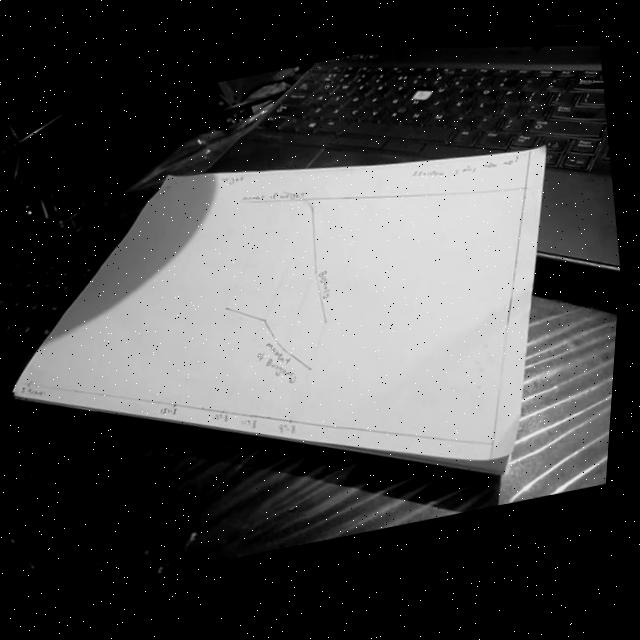document: (14, 148, 544, 472)
